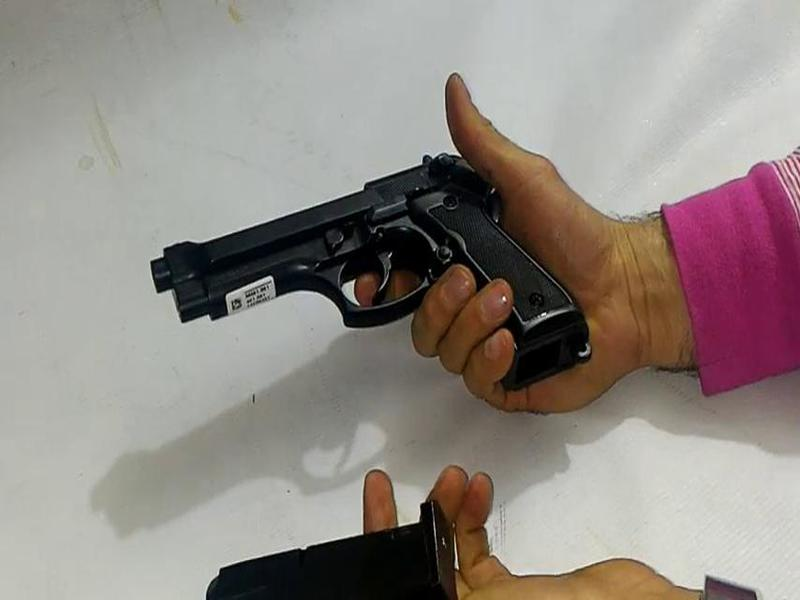Pistola: (115, 129, 627, 417)
